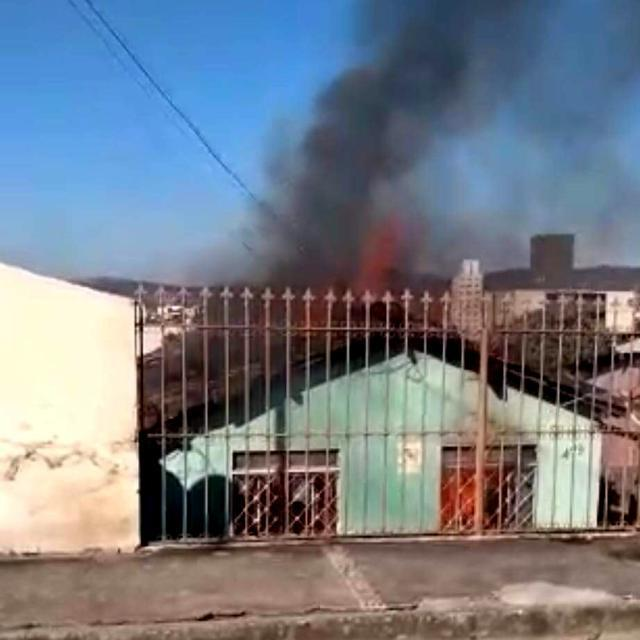Smoke: (239, 0, 520, 284)
